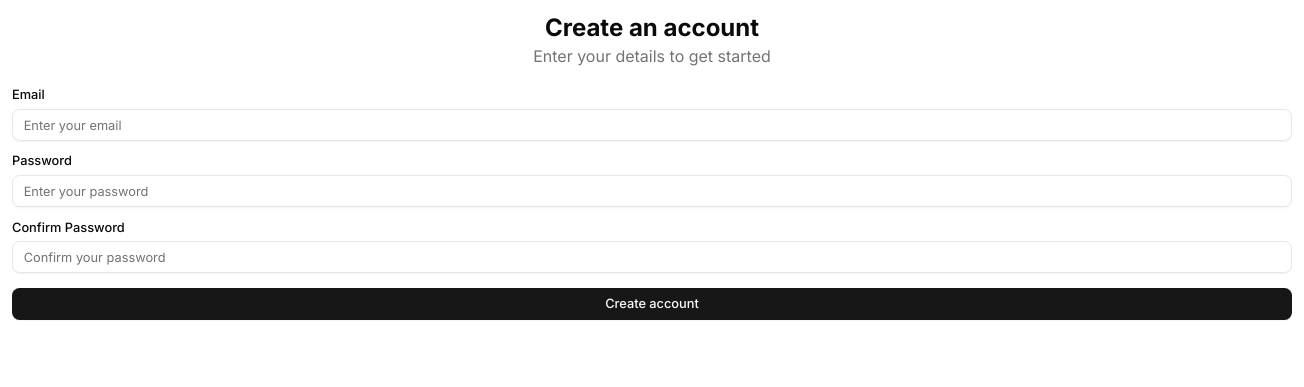
Scenario: SignUpForm › shows validation errors for short password
Type "test@example.com" into the field labelled "Email" at {"x": 652, "y": 125}, box [12,109,1292,141]
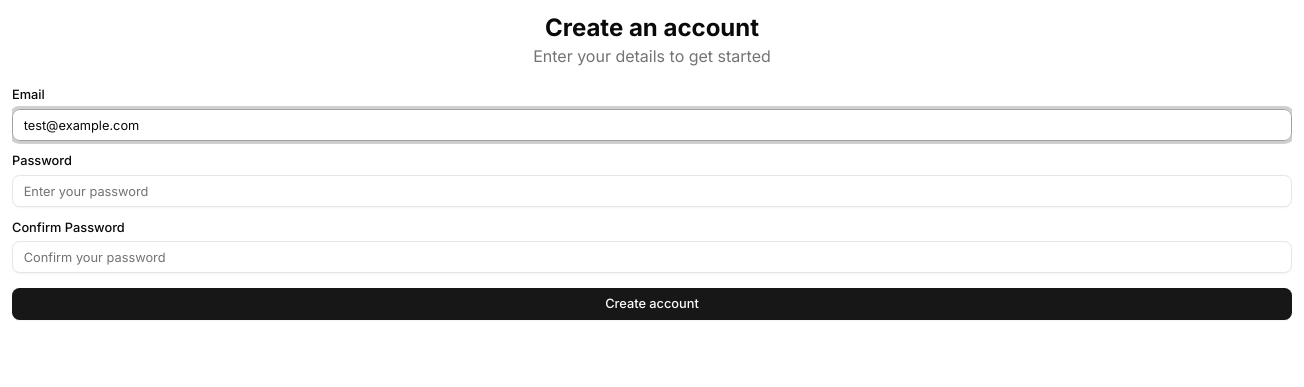
Type "12345" into the password field labelled "Password" at {"x": 652, "y": 191}, box [12,175,1292,207]
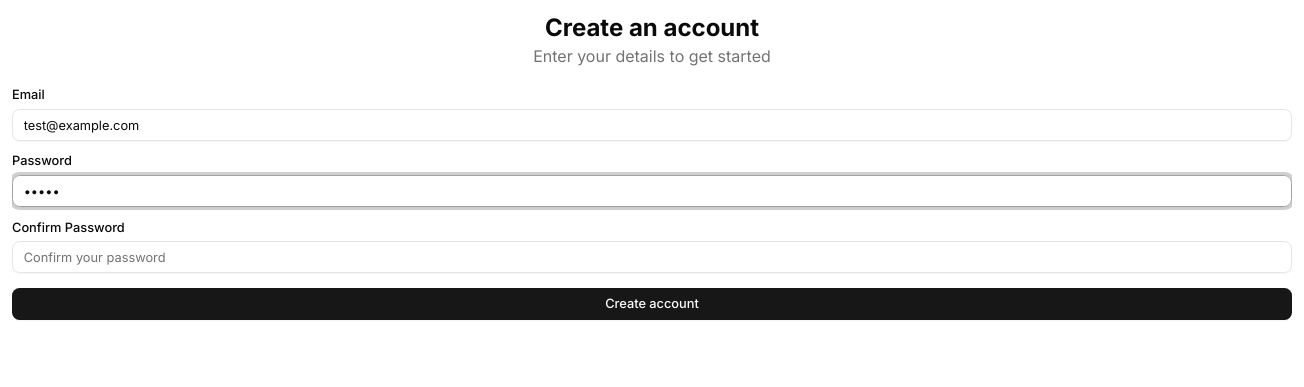
Click the button "Create account" at {"x": 652, "y": 304}, box [12,288,1292,320]
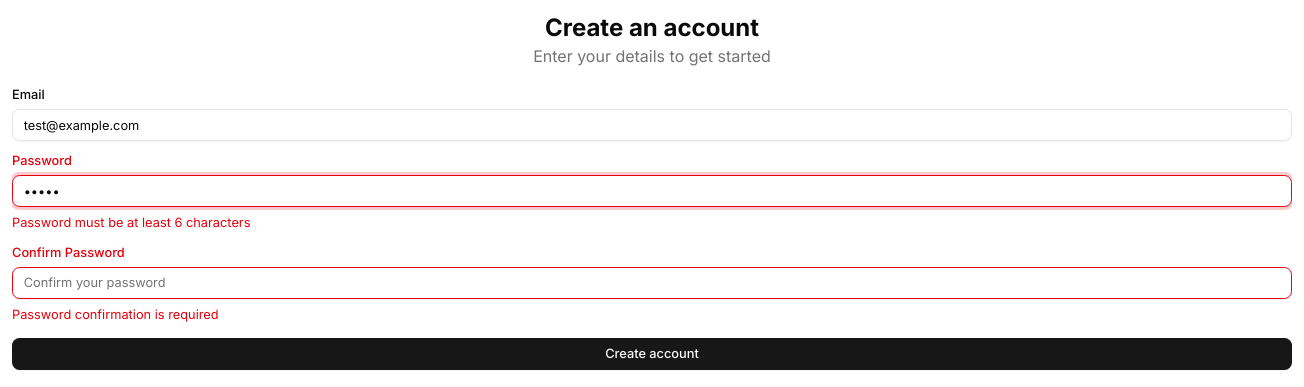
Expected: the text "Password must be at least 6 characters" is shown, [12,215,250,230]
